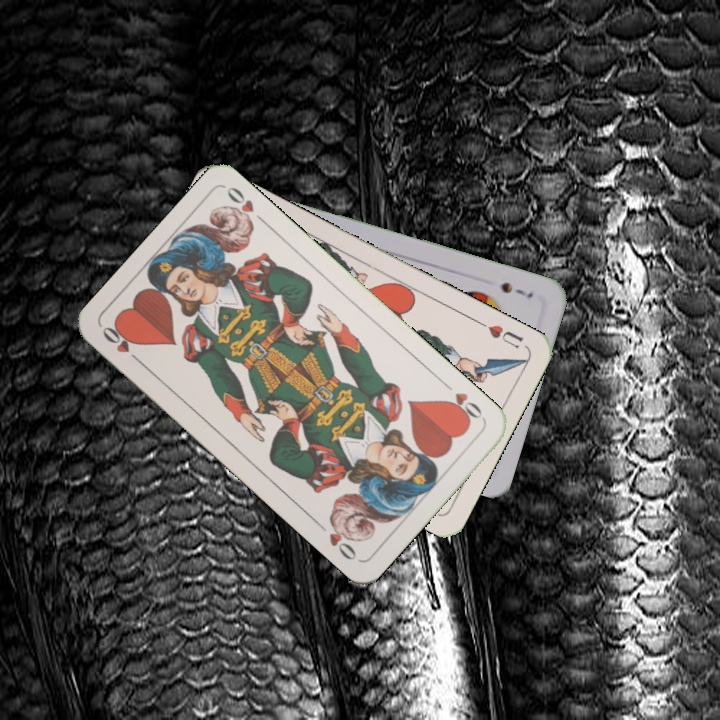HO: (97, 320, 146, 368), (439, 378, 487, 426)
HU: (474, 316, 526, 352)
S7: (497, 278, 536, 301)
